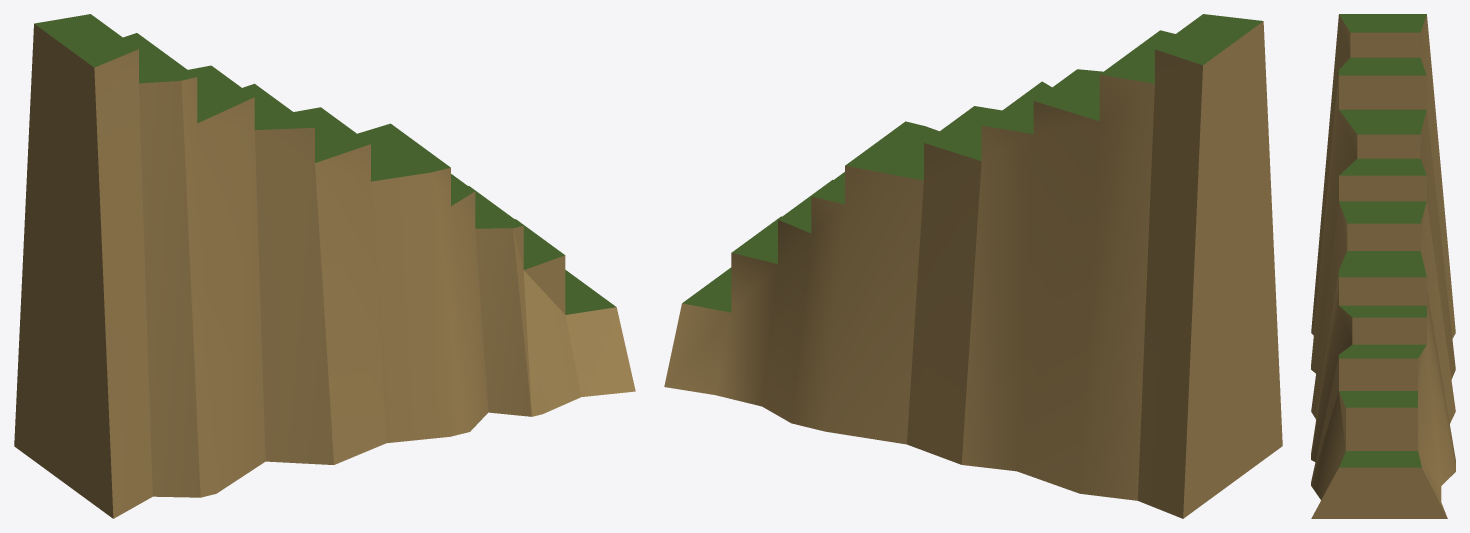
Rendered from Terrain_Tile_Grass_Dirt_Stairs_03.fbx.
3 renders of one model, left to right at view 1: azimuth 30°, elevation 25°; view 2: azimuth 150°, elevation 25°; view 3: azimuth 270°, elevation 25°, orthographic. The views are drawn at different scales.
Visible parts, largest first — view 1: Terrain_Tile_Grass_Dirt_Stairs_03; view 2: Terrain_Tile_Grass_Dirt_Stairs_03; view 3: Terrain_Tile_Grass_Dirt_Stairs_03.
Part boxes in pixels (<box>): Terrain_Tile_Grass_Dirt_Stairs_03: <box>14,14,635,518</box>; Terrain_Tile_Grass_Dirt_Stairs_03: <box>664,14,1282,518</box>; Terrain_Tile_Grass_Dirt_Stairs_03: <box>1311,14,1455,518</box>.
Size of the model in its own units: 157 by 126 by 51.8.
